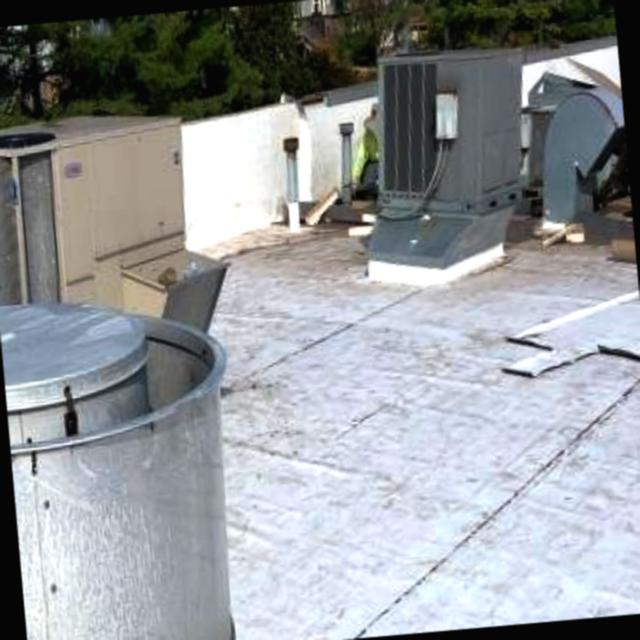GRAVITY-VENT: (0, 284, 258, 640)
RTU: (0, 76, 235, 355)
SPLIT-SYSTEM: (346, 32, 542, 284)
